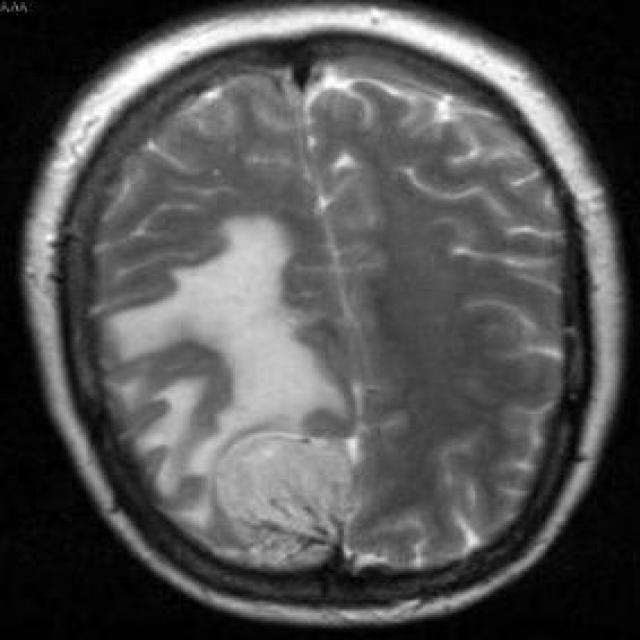brain tumor: (104, 217, 357, 577)
